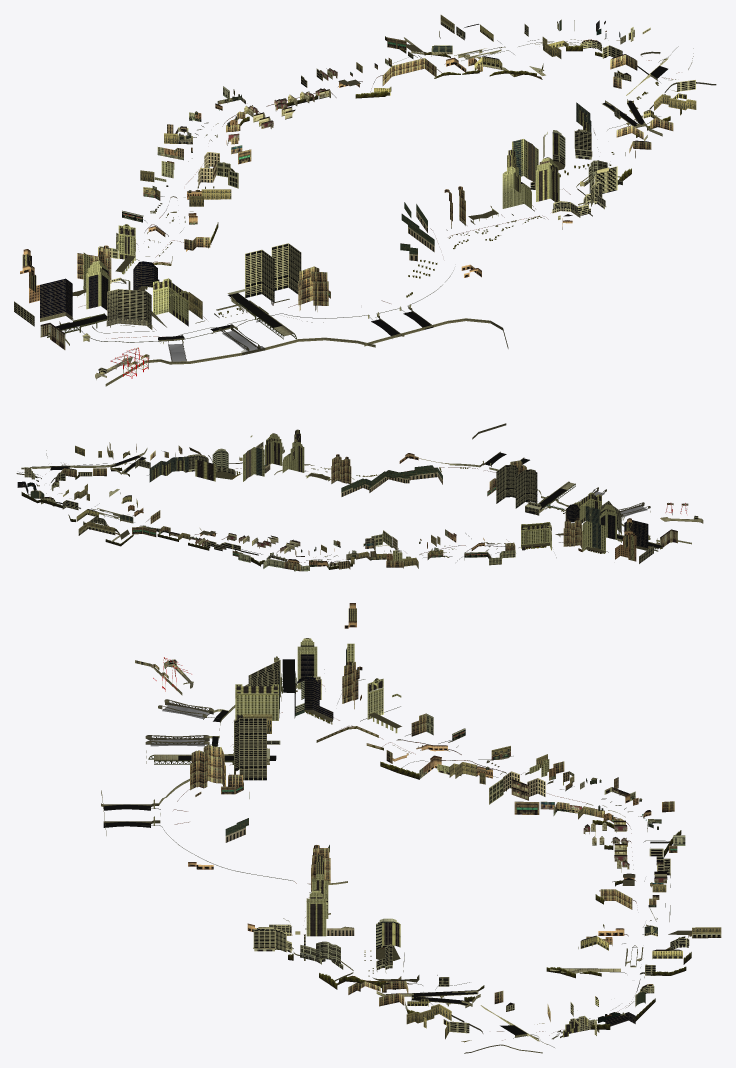
The model's file is track-B2_C3_V2.glb.
3 renders of one model, top to bottom at view 1: azimuth 30°, elevation 25°; view 2: azimuth 150°, elevation 25°; view 3: azimuth 270°, elevation 25°, orthographic. The views are drawn at different scales.
Parts seen in each view (by area): view 1: B2_C3_V2; view 2: B2_C3_V2; view 3: B2_C3_V2.
Part boxes in pixels (x1,y1,x2,y2): B2_C3_V2: [14, 15, 716, 386]; B2_C3_V2: [16, 423, 703, 571]; B2_C3_V2: [101, 603, 721, 1053].
Bounding box in the file's own units: 2919 × 231 × 2097.
Materials: 88 (87 with a texture image).
